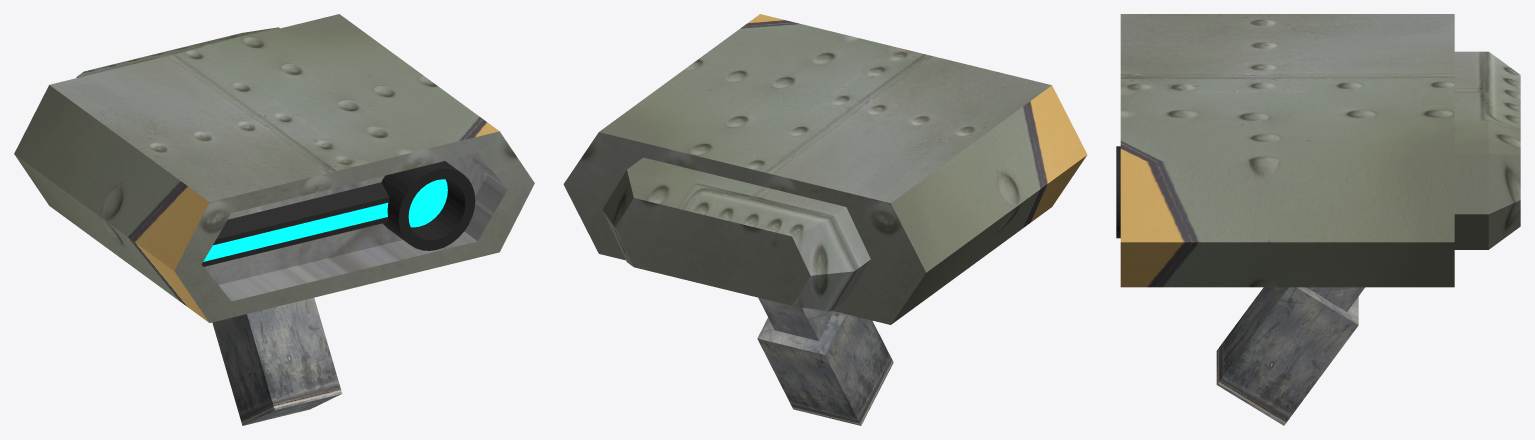
The model's file is robot 4 head.fbx.
The picture shows the model from 3 angles, left to right: view 1: azimuth 30°, elevation 25°; view 2: azimuth 150°, elevation 25°; view 3: azimuth 270°, elevation 25°; orthographic projection. The views are drawn at different scales.
Visible parts, largest first — view 1: Cube.001, Cube.014; view 2: Cube.001, Cube.014; view 3: Cube.001, Cube.014.
Boxes of the visible parts, <box> form: Cube.001: <box>14,14,534,322</box>; Cube.014: <box>212,297,342,425</box>; Cube.001: <box>563,14,1087,324</box>; Cube.014: <box>757,297,893,425</box>; Cube.001: <box>1116,14,1520,287</box>; Cube.014: <box>1216,287,1364,425</box>.
Bounding box in the file's own units: 173 × 141 × 161.
